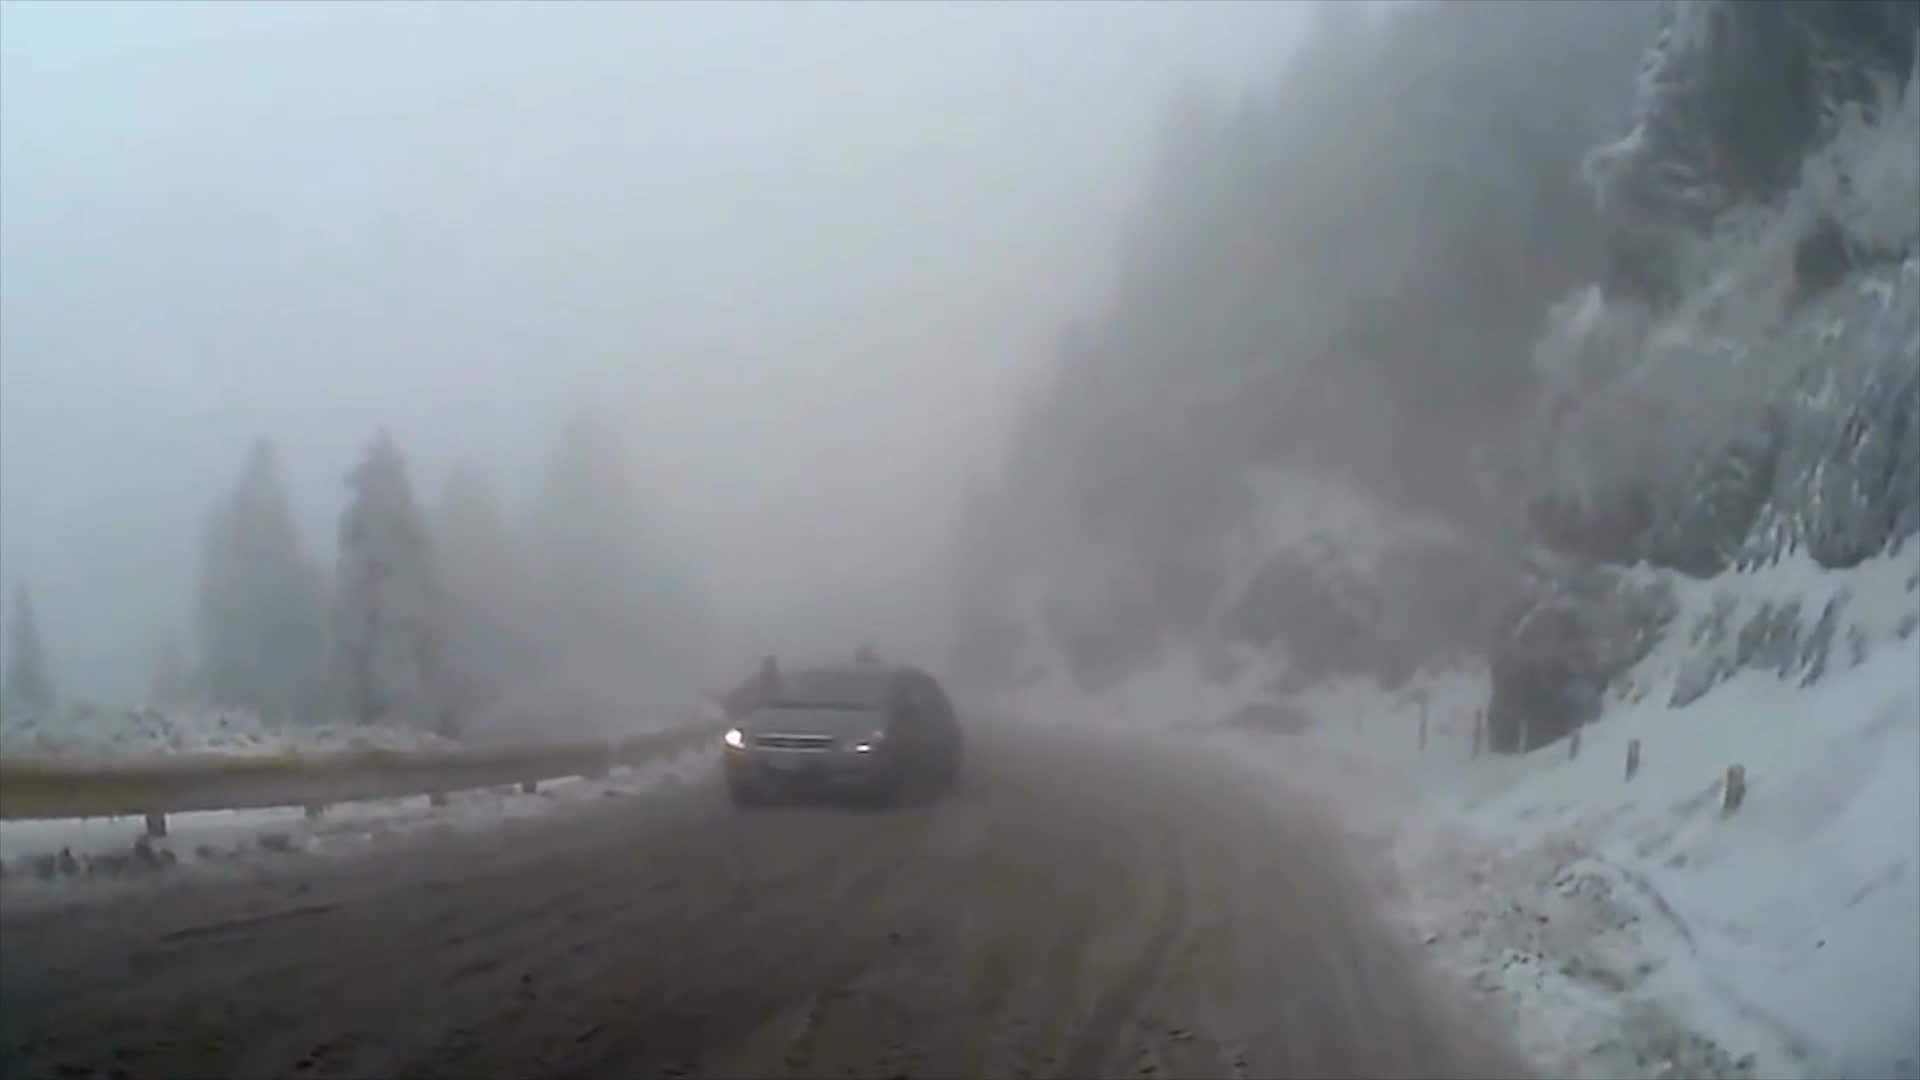vehicle: (723, 666, 964, 810)
